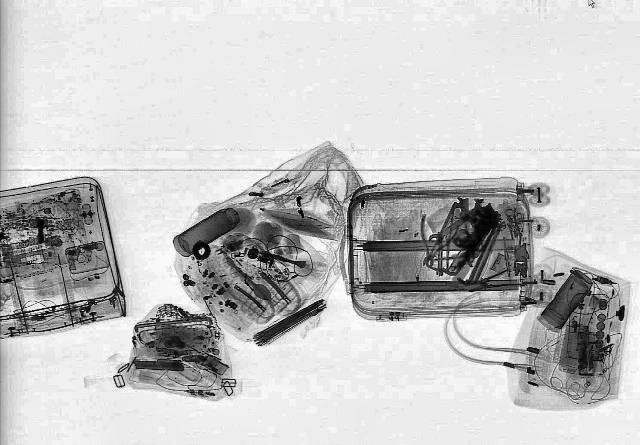Pliers: (408, 212, 459, 268)
Wrench: (424, 212, 474, 246), (448, 198, 479, 222)
